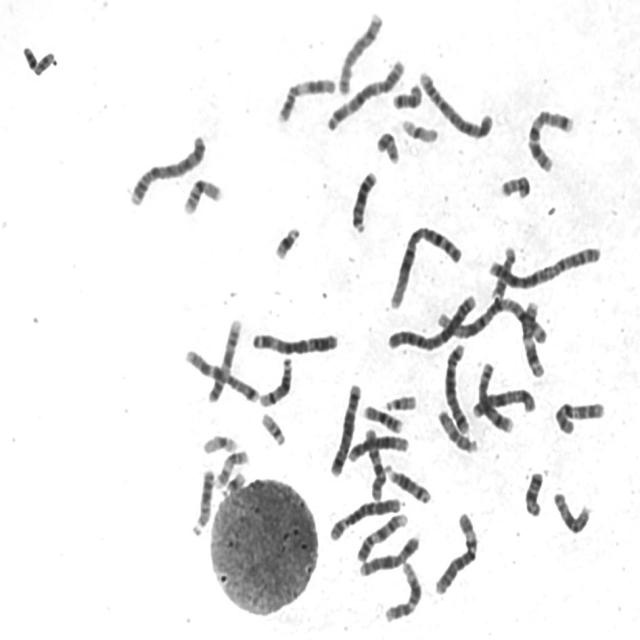A1: (386, 220, 464, 310), (433, 293, 549, 344)
A2: (485, 239, 604, 293), (383, 290, 478, 354)
A3: (322, 54, 407, 132), (248, 326, 340, 356)
B4: (125, 130, 207, 208), (416, 66, 494, 140)
B5: (326, 378, 363, 479), (441, 339, 472, 435)
C10: (551, 396, 607, 437), (363, 423, 386, 502)
C11: (273, 72, 337, 124), (518, 297, 548, 379)
C12: (381, 557, 423, 624), (344, 430, 410, 462)
C6: (431, 508, 480, 596), (326, 494, 402, 543)
C7: (180, 344, 260, 405), (523, 104, 576, 174)
C8: (334, 8, 384, 97), (474, 358, 515, 435)
C9: (204, 314, 244, 404), (353, 508, 409, 564)
D13: (347, 166, 379, 235), (187, 464, 216, 537)
D14: (380, 459, 433, 506), (256, 351, 294, 409)
D15: (434, 405, 479, 454), (550, 487, 592, 536)
E16: (180, 173, 223, 217), (359, 401, 404, 434)
E17: (488, 242, 518, 301), (212, 446, 250, 490)
E18: (521, 467, 545, 518), (389, 78, 424, 110)
F19: (398, 114, 440, 146), (198, 429, 239, 456)
F20: (496, 171, 532, 201), (373, 127, 401, 165)
G21: (270, 221, 302, 261), (219, 467, 247, 496)
G22: (257, 408, 287, 447), (382, 390, 418, 413)
X: (355, 531, 422, 578), (468, 384, 537, 419)
